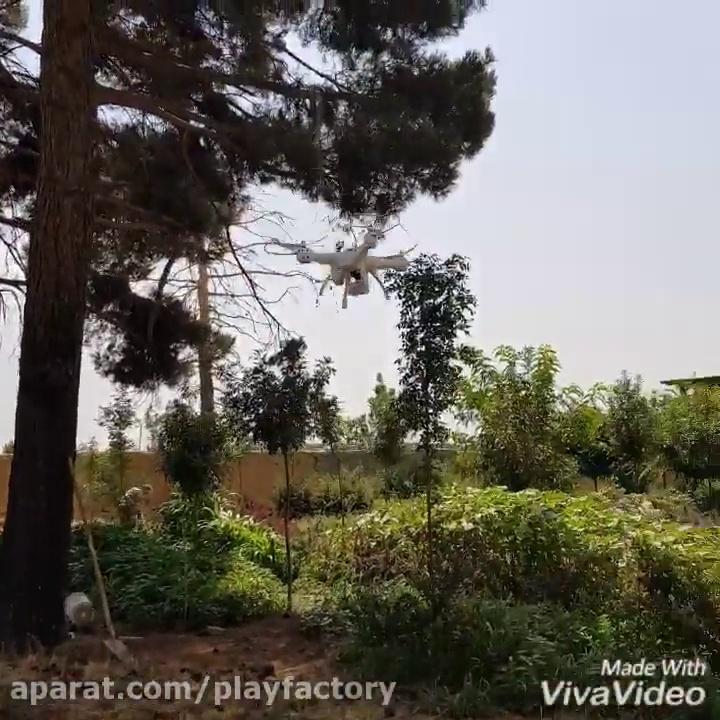drone: (259, 217, 418, 308)
